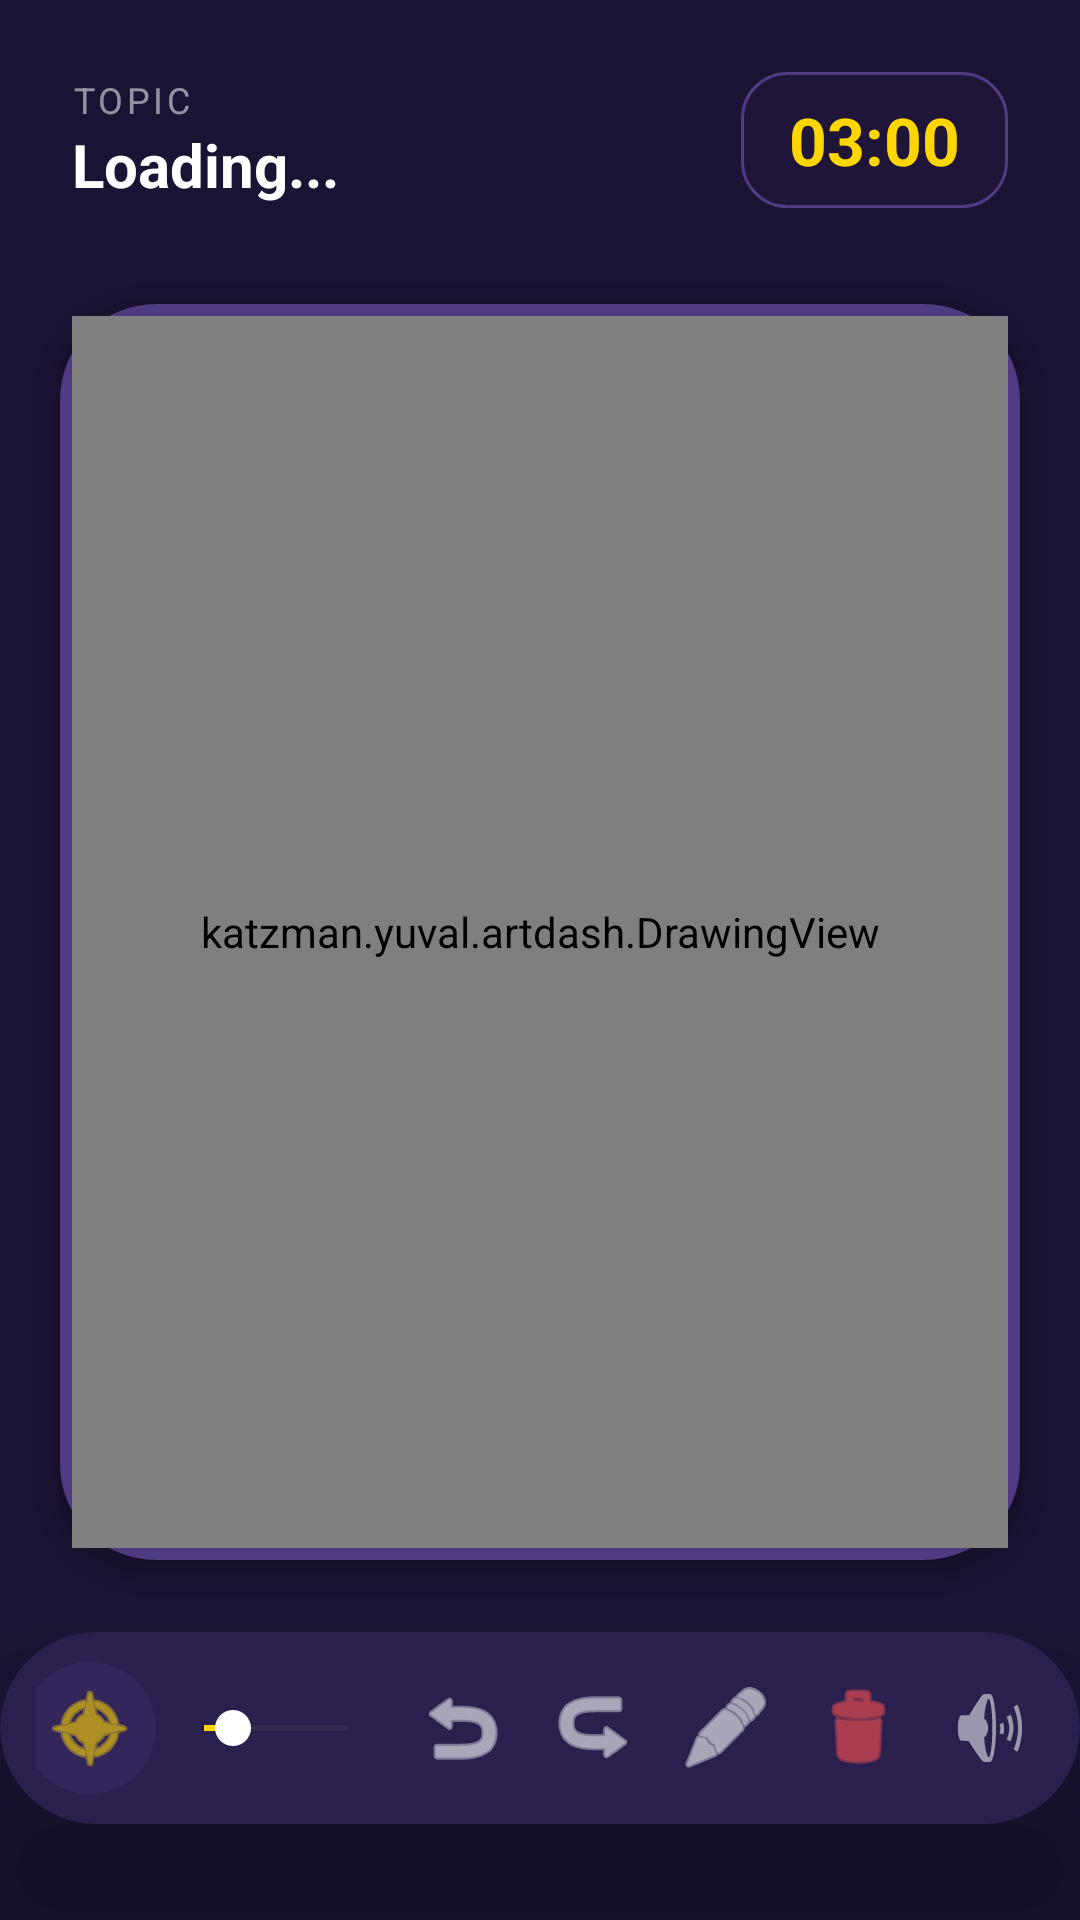

Icon click points for this 1080 x 1920 phone screenshot, format (x=x, y=y):
Clear Canvas: (x=858, y=1726)
Mute Music: (x=990, y=1728)
Undo: (x=463, y=1728)
